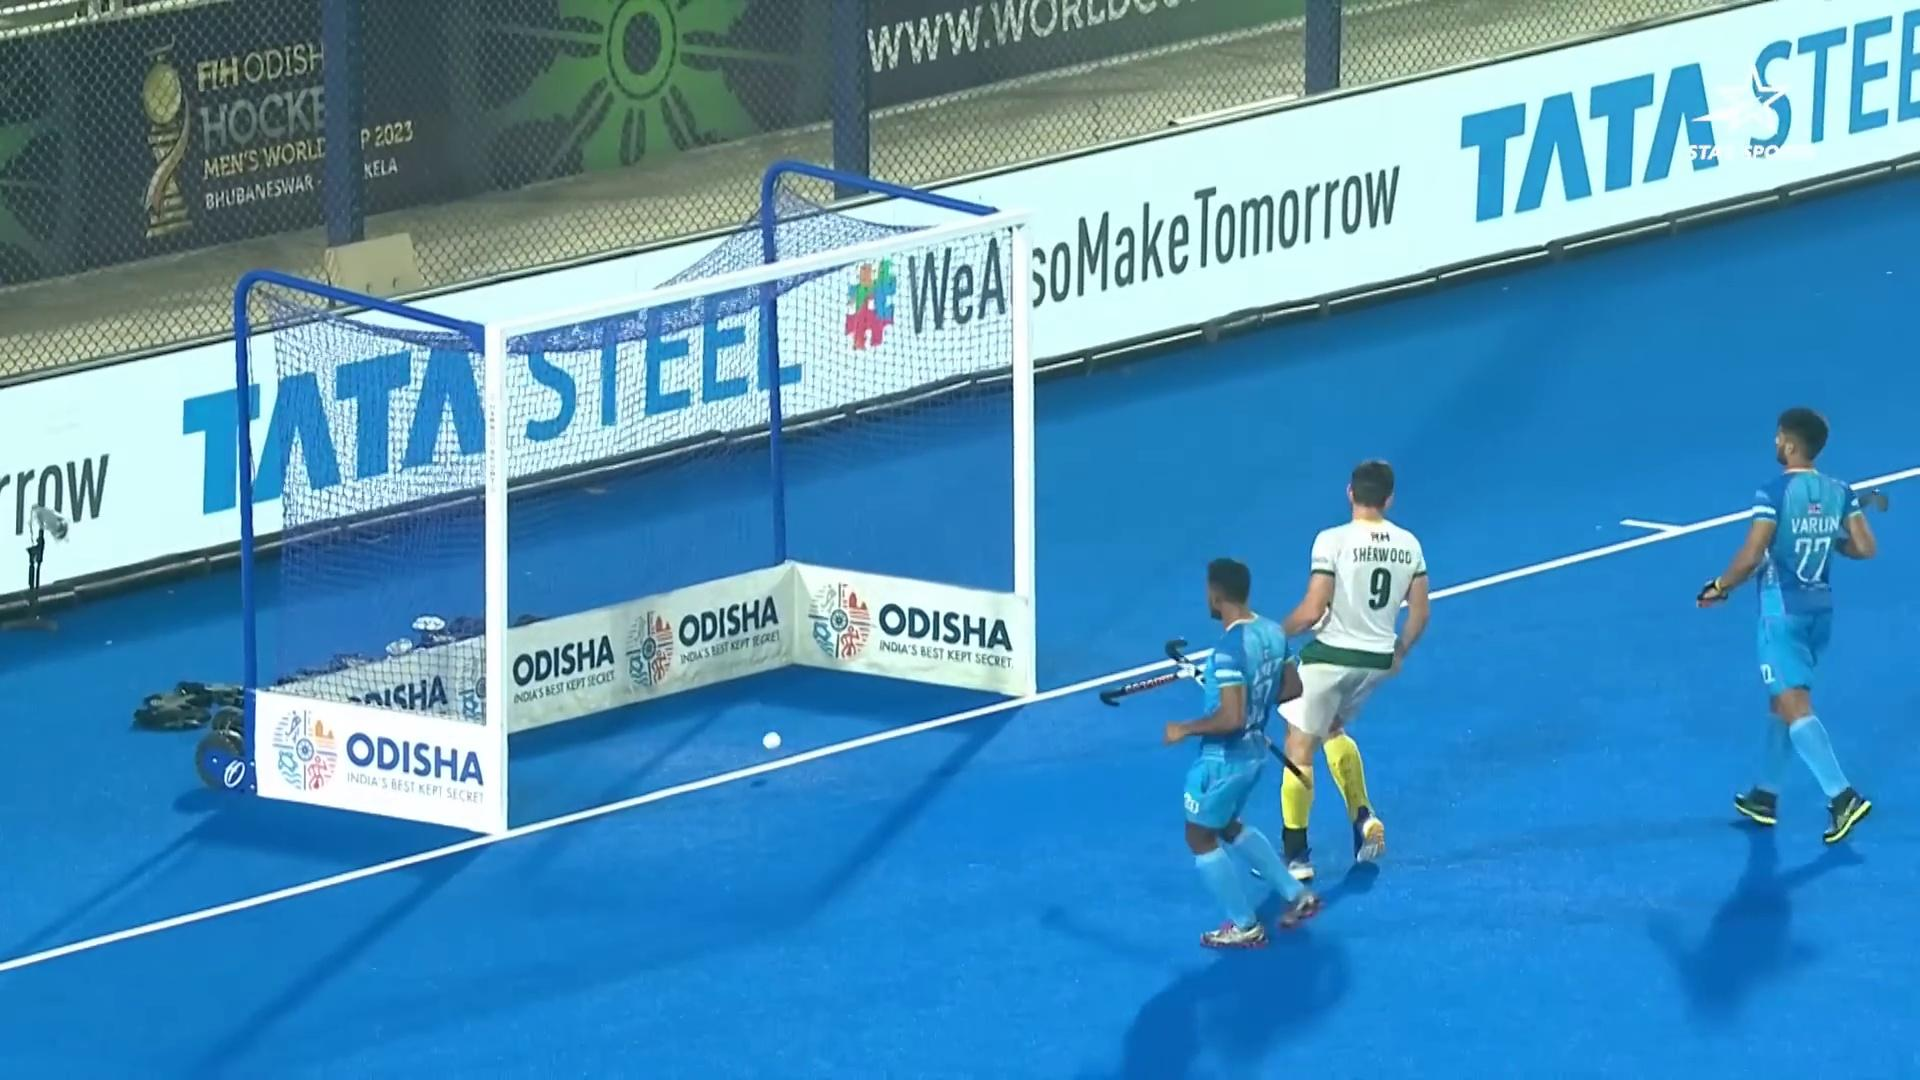ball: (745, 713, 795, 754)
